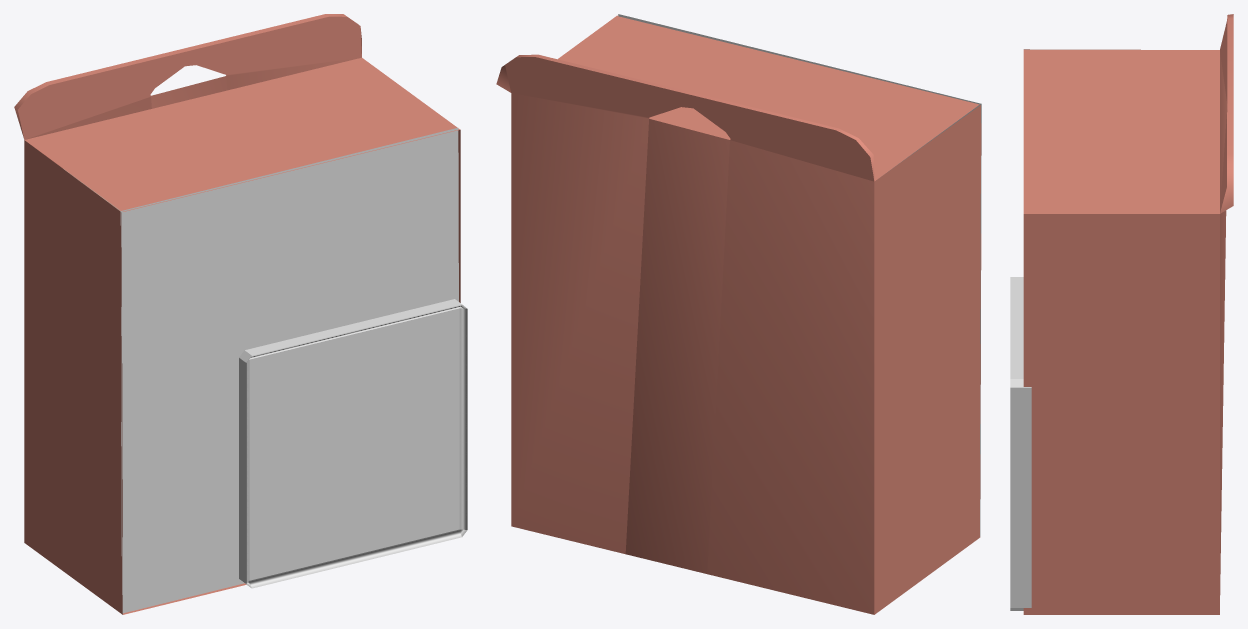
The model's file is toy.fbx.
The picture shows the model from 3 angles, left to right: view 1: azimuth 30°, elevation 25°; view 2: azimuth 150°, elevation 25°; view 3: azimuth 270°, elevation 25°; orthographic projection. The views are drawn at different scales.
Visible parts, largest first — view 1: ChamferBox001_05 - Default_0.017_6, ChamferBox001_05 - Default_0.007_4; view 2: ChamferBox001_05 - Default_0.007_4, ChamferBox001_05 - Default_0.017_6; view 3: ChamferBox001_05 - Default_0.007_4, ChamferBox001_05 - Default_0.017_6.
Part boxes in pixels (left/top/right/bottom): ChamferBox001_05 - Default_0.017_6: left=120, top=128, right=467, bottom=613; ChamferBox001_05 - Default_0.007_4: left=14, top=14, right=460, bottom=614; ChamferBox001_05 - Default_0.007_4: left=496, top=15, right=981, bottom=614; ChamferBox001_05 - Default_0.017_6: left=618, top=14, right=981, bottom=536; ChamferBox001_05 - Default_0.007_4: left=1023, top=14, right=1233, bottom=614; ChamferBox001_05 - Default_0.017_6: left=1010, top=277, right=1031, bottom=610.
Bounding box in the file's own units: 0.4517 × 0.5569 × 0.2525.
